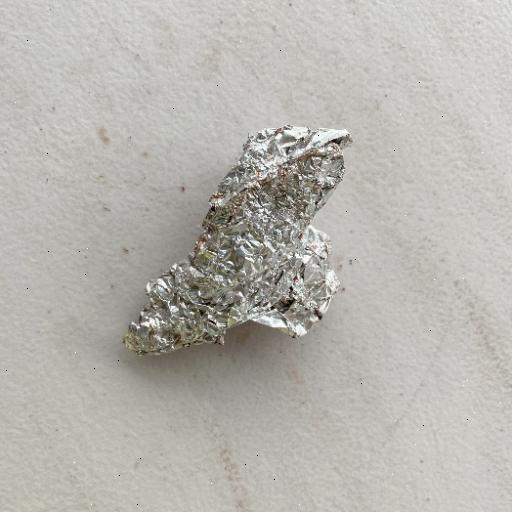Metal: (122, 122, 354, 358)
